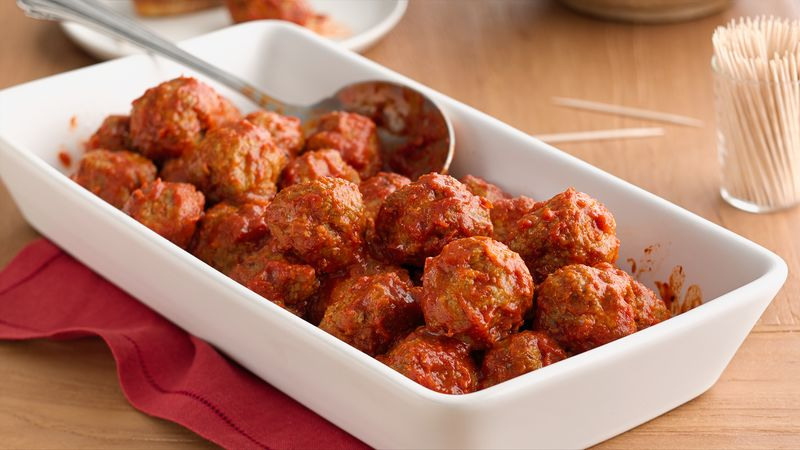meatballs: (418, 239, 535, 327), (516, 194, 628, 270), (188, 114, 274, 201), (546, 262, 637, 342), (263, 179, 373, 245), (382, 181, 487, 246), (328, 265, 412, 339), (113, 173, 197, 243), (196, 198, 274, 272), (123, 78, 210, 144), (310, 107, 384, 172), (71, 145, 160, 193), (393, 331, 460, 391), (500, 328, 564, 374)
